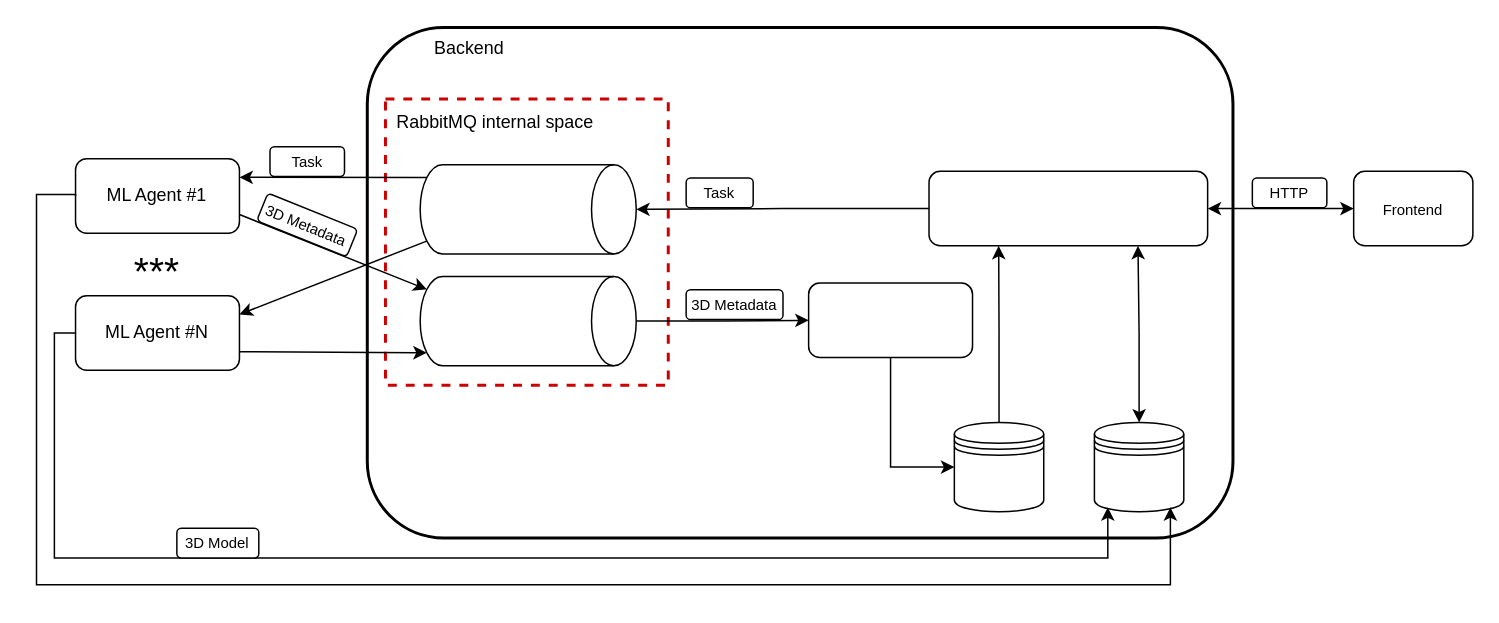
This 1499x623 diagram has some shape labels left out. Each missing label, with the centre of its shape:
"3D metadata" message queue: point (527, 320)
"Tasks" message queue: point (527, 208)
API Agent: point (890, 320)
DB: point (998, 466)
HTTP API: point (1068, 208)
S3: point (1138, 466)
